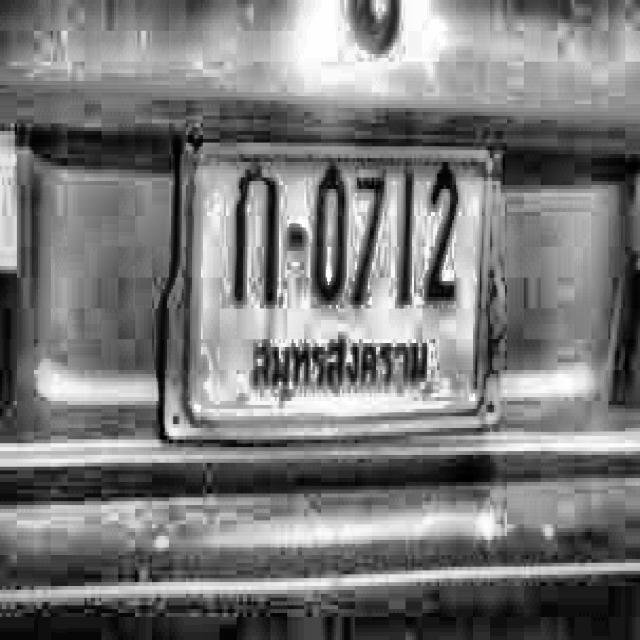license-plate: (168, 132, 505, 430)
